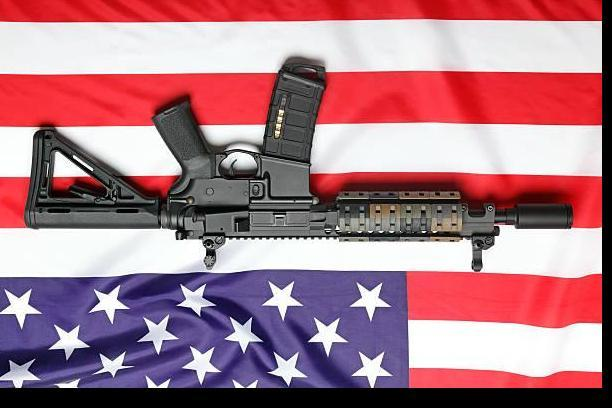larga: (23, 61, 574, 273)
